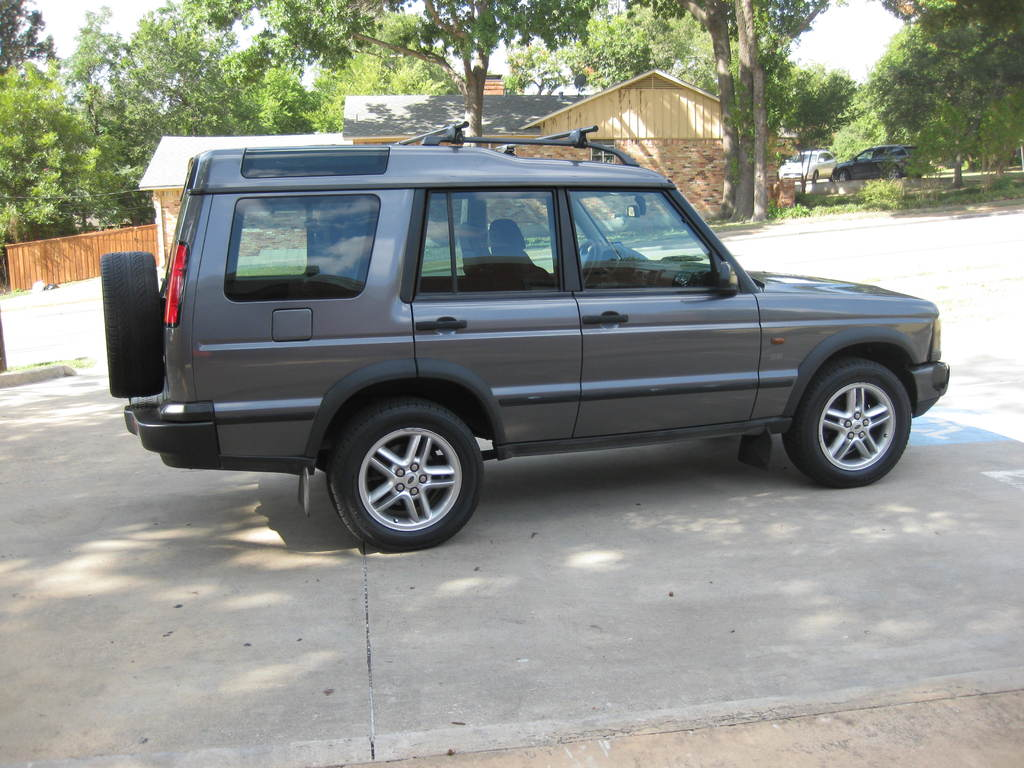Tree: (0, 0, 1024, 294)
